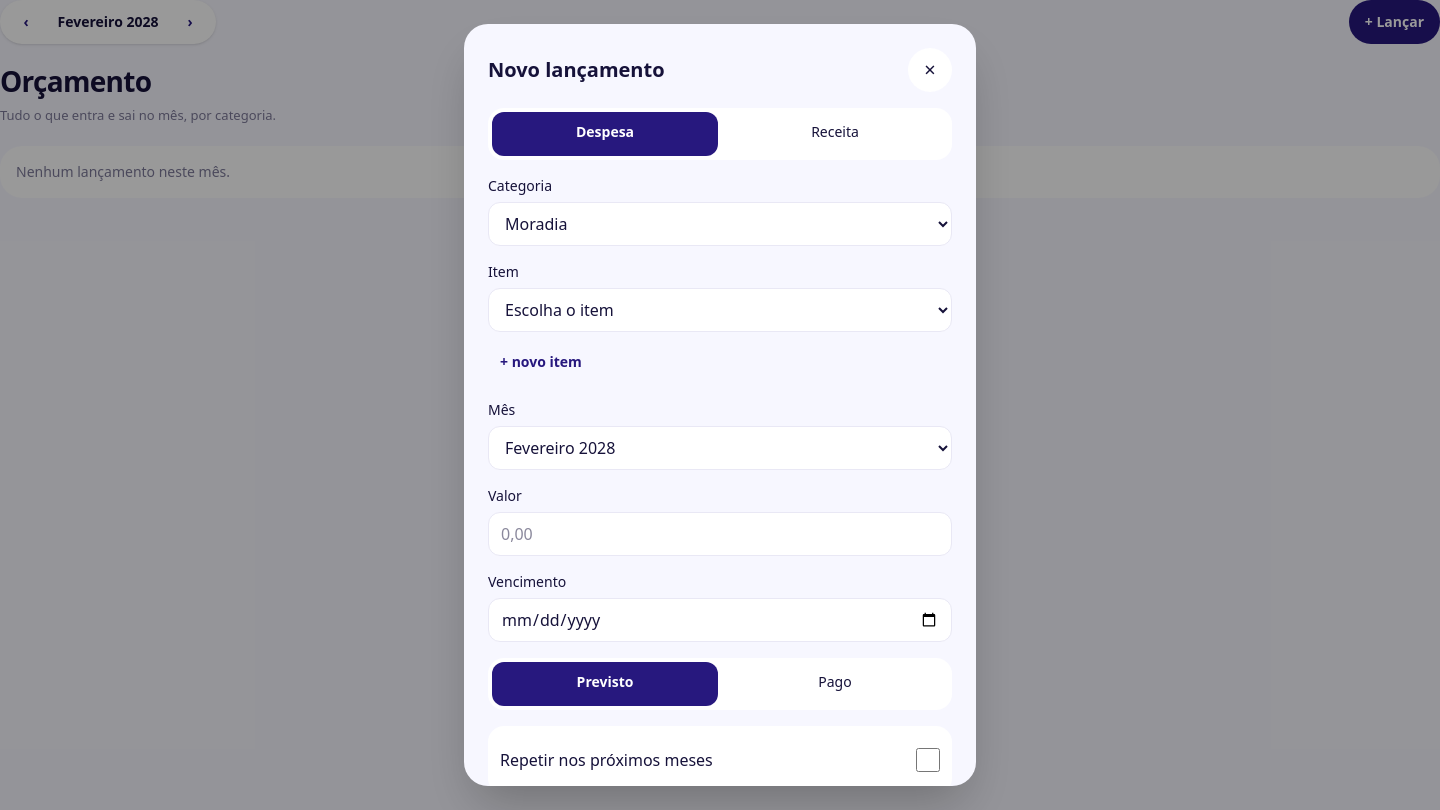
LancamentoForm (novo) › vencimento_em_fevereiro_bissexto_cai_no_dia_29
The image size is (1440, 810).
Select "Condomínio" in the dropdown labelled "Item" at [720, 310], box [488,288,952,332]
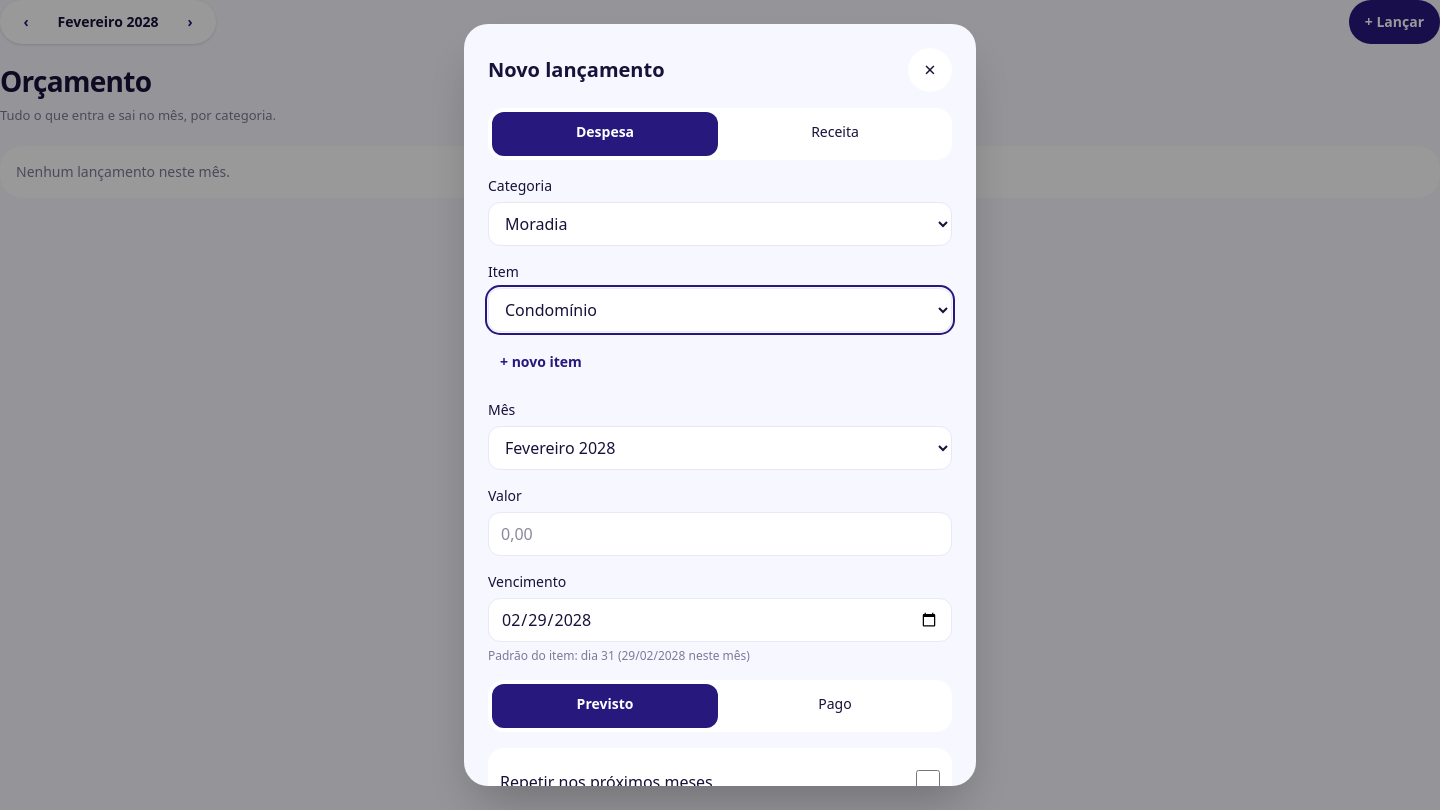
expect the date field labelled "Vencimento" holds "2028-02-29": met, box [488,598,952,642]
